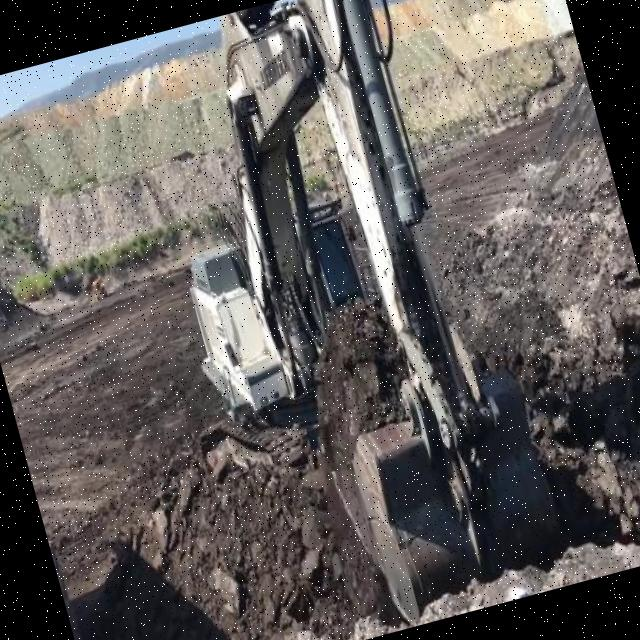Excavator: (94, 0, 572, 640)
